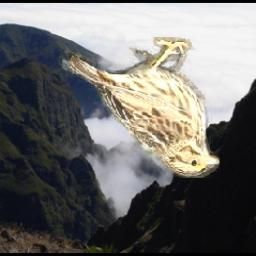Sparrow: (63, 37, 221, 178)
